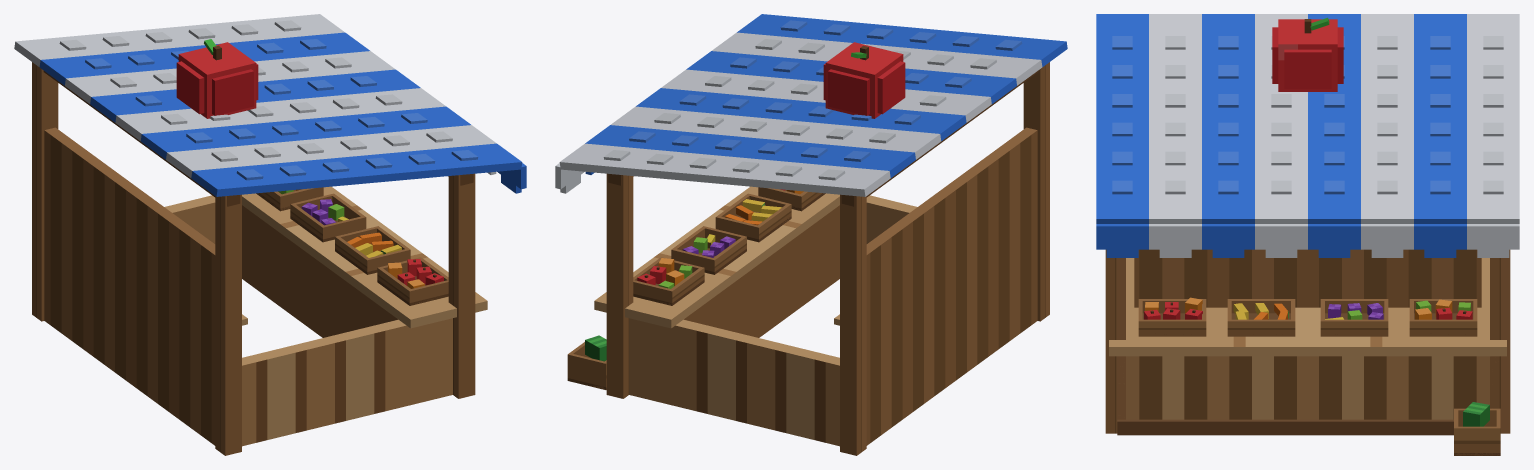
The model's file is stall_food.glb.
3 views of the same model, side by side, from view 1: azimuth 30°, elevation 25°; view 2: azimuth 150°, elevation 25°; view 3: azimuth 270°, elevation 25° (orthographic). The views are drawn at different scales.
Parts seen in each view (by area): view 1: stall_food; view 2: stall_food; view 3: stall_food.
Boxes of the visible parts, left/top/right/bottom form: stall_food: left=14, top=14, right=526, bottom=455; stall_food: left=555, top=14, right=1067, bottom=455; stall_food: left=1096, top=14, right=1519, bottom=455.
Bounding box in the file's own units: 4.43 × 4.32 × 5.
